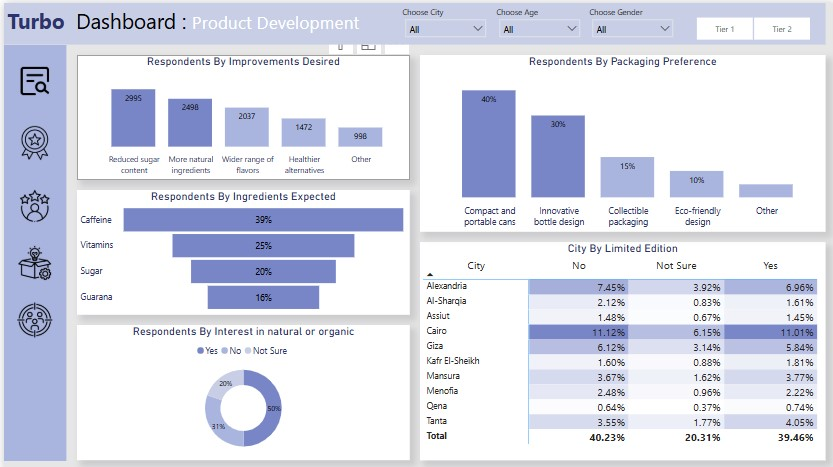

The dashboard page shown, as its layout file describes it:
{"tool":"powerbi","page":{"name":"Product improvment","canvas":[1280,720],"ordinal":3},"visuals":[{"type":"columnChart","title":"Respondents By Improvements Desired","fields":{"Category":["fact_survey_responses.Improvements_desired"],"Y":["CountNonNull(fact_survey_responses.Response_ID)"]},"box":[112,80,512,192],"z":0},{"type":"funnel","title":"Respondents By Ingredients Expected","fields":{"Category":["fact_survey_responses.Ingredients_expected"],"Y":["CountNonNull(fact_survey_responses.Response_ID)"]},"box":[112,288,512,192],"z":1000},{"type":"donutChart","title":"Respondents By Interest in natural or organic","fields":{"Category":["fact_survey_responses.Interest_in_natural_or_organic"],"Y":["CountNonNull(fact_survey_responses.Response_ID)"]},"box":[112,496,512,208],"z":2000},{"type":"pivotTable","title":"City By Limited Edition","fields":{"Rows":["dim_cities.City"],"Values":["CountNonNull(fact_survey_responses.Response_ID)"],"Columns":["fact_survey_responses.Limited_edition_packaging"]},"box":[640,368,624,336],"z":3000},{"type":"textbox","box":[0,0,1264,64],"z":4000},{"type":"columnChart","title":"Respondents By Packaging Preference","fields":{"Category":["fact_survey_responses.Packaging_preference"],"Y":["CountNonNull(fact_survey_responses.Response_ID)"]},"box":[640,80,624,272],"z":5000},{"type":"slicer","title":"City","fields":{"Values":["dim_cities.City"]},"box":[608,16,144,48],"z":6000},{"type":"slicer","title":"Age","fields":{"Values":["dim_repondents.Age"]},"box":[752,16,144,48],"z":7000},{"type":"slicer","title":"Gender","fields":{"Values":["dim_repondents.Gender"]},"box":[896,16,144,48],"z":8000},{"type":"slicer","fields":{"Values":["dim_cities.Tier"]},"box":[1040,16,224,48],"z":9000},{"type":"shape","box":[0,64,96,640],"z":10000},{"type":"image","box":[16,80,64,80],"z":11000},{"type":"image","box":[16,176,64,80],"z":12000},{"type":"image","box":[16,272,64,80],"z":13000},{"type":"image","box":[16,368,64,64],"z":14000},{"type":"image","box":[16,448,64,80],"z":15000},{"type":"textbox","box":[752,0,112,32],"z":16000},{"type":"textbox","box":[608,0,112,32],"z":17000},{"type":"textbox","box":[896,0,112,32],"z":18000}]}

Visuals, with their boxes in screenshot pixels (x1, y1, x2, y2), scaled from the page's 1280x720 canvas onto the 833x467 screenshot:
"Respondents By Improvements Desired" columnChart: box(73, 52, 406, 176)
"Respondents By Ingredients Expected" funnel: box(73, 187, 406, 311)
"Respondents By Interest in natural or organic" donutChart: box(73, 322, 406, 457)
"City By Limited Edition" pivotTable: box(416, 239, 823, 457)
textbox: box(0, 0, 823, 42)
"Respondents By Packaging Preference" columnChart: box(416, 52, 823, 228)
"City" slicer: box(396, 10, 489, 42)
"Age" slicer: box(489, 10, 583, 42)
"Gender" slicer: box(583, 10, 677, 42)
slicer - dim_cities.Tier: box(677, 10, 823, 42)
shape: box(0, 42, 62, 457)
image: box(10, 52, 52, 104)
image: box(10, 114, 52, 166)
image: box(10, 176, 52, 228)
image: box(10, 239, 52, 280)
image: box(10, 291, 52, 342)
textbox: box(489, 0, 562, 21)
textbox: box(396, 0, 469, 21)
textbox: box(583, 0, 656, 21)
